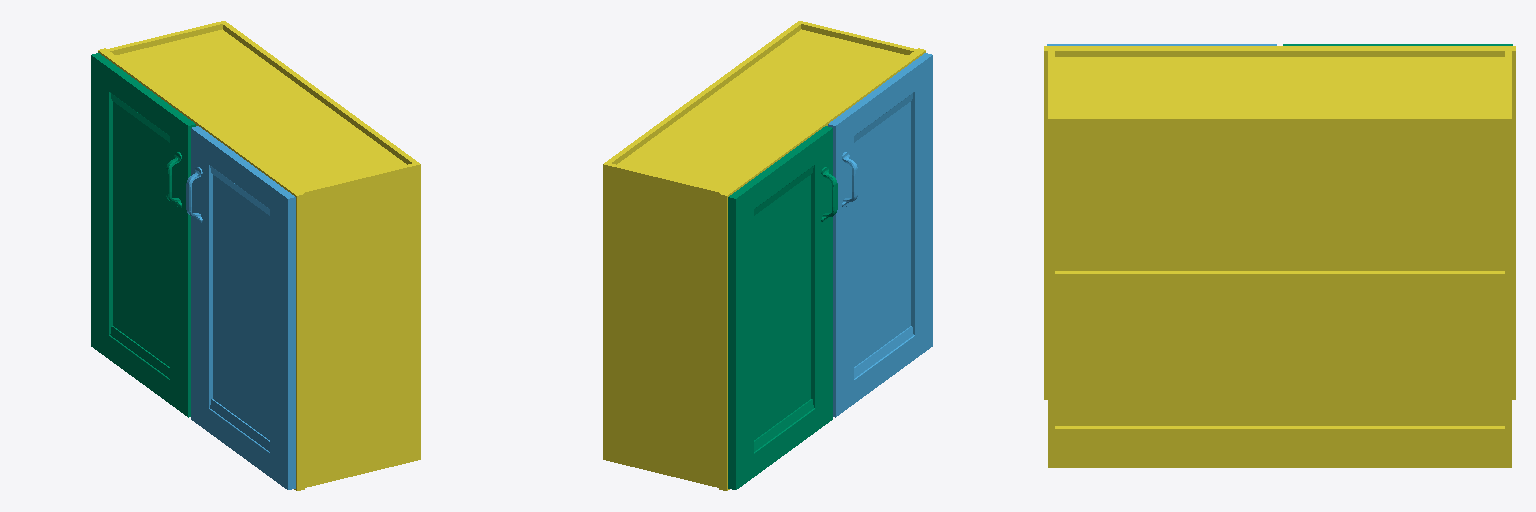
The robot description file, URDF, robot "partnet_e73d23dbd069877f4da5feafe6f1c8fc":
<?xml version="1.0" ?>
<robot name="partnet_e73d23dbd069877f4da5feafe6f1c8fc">
	<link name="base"/>
	    <contact>
      		<lateral_friction value="1.0"/>
      		<rolling_friction value="1"/>
      		<inertia_scaling value="3.0"/>
	    </contact>
	    <inertial>
	      <origin xyz="0. 0. 0." />
	      <mass value="1000000" />
	      <inertia ixx="0.001" ixy="0.0" ixz="0.0" iyy="0.001" iyz="0.0" izz="0.001" />
	    </inertial>
	<link name="link_0">
		<visual name="cabinet_door_surface-7">
			<origin xyz="-0.7838213456429965 -0.6148229837417603 -0.24762396097500847"/>
			<geometry>
				<mesh filename="textured_objs/original-28.obj"/>
			</geometry>
		</visual>
		<visual name="cabinet_door_surface-7">
			<origin xyz="-0.7838213456429965 -0.6148229837417603 -0.24762396097500847"/>
			<geometry>
				<mesh filename="textured_objs/original-24.obj"/>
			</geometry>
		</visual>
		<visual name="cabinet_door_surface-7">
			<origin xyz="-0.7838213456429965 -0.6148229837417603 -0.24762396097500847"/>
			<geometry>
				<mesh filename="textured_objs/original-23.obj"/>
			</geometry>
		</visual>
		<visual name="cabinet_door_surface-7">
			<origin xyz="-0.7838213456429965 -0.6148229837417603 -0.24762396097500847"/>
			<geometry>
				<mesh filename="textured_objs/original-22.obj"/>
			</geometry>
		</visual>
		<visual name="cabinet_door_surface-7">
			<origin xyz="-0.7838213456429965 -0.6148229837417603 -0.24762396097500847"/>
			<geometry>
				<mesh filename="textured_objs/original-25.obj"/>
			</geometry>
		</visual>
		<visual name="cabinet_door_surface-7">
			<origin xyz="-0.7838213456429965 -0.6148229837417603 -0.24762396097500847"/>
			<geometry>
				<mesh filename="textured_objs/original-27.obj"/>
			</geometry>
		</visual>
		<visual name="handle-8">
			<origin xyz="-0.7838213456429965 -0.6148229837417603 -0.24762396097500847"/>
			<geometry>
				<mesh filename="textured_objs/original-29.obj"/>
			</geometry>
		</visual>
		<collision>
			<origin xyz="-0.7838213456429965 -0.6148229837417603 -0.24762396097500847"/>
			<geometry>
				<mesh filename="textured_objs/original-28.obj"/>
			</geometry>
		</collision>
		<collision>
			<origin xyz="-0.7838213456429965 -0.6148229837417603 -0.24762396097500847"/>
			<geometry>
				<mesh filename="textured_objs/original-24.obj"/>
			</geometry>
		</collision>
		<collision>
			<origin xyz="-0.7838213456429965 -0.6148229837417603 -0.24762396097500847"/>
			<geometry>
				<mesh filename="textured_objs/original-23.obj"/>
			</geometry>
		</collision>
		<collision>
			<origin xyz="-0.7838213456429965 -0.6148229837417603 -0.24762396097500847"/>
			<geometry>
				<mesh filename="textured_objs/original-22.obj"/>
			</geometry>
		</collision>
		<collision>
			<origin xyz="-0.7838213456429965 -0.6148229837417603 -0.24762396097500847"/>
			<geometry>
				<mesh filename="textured_objs/original-25.obj"/>
			</geometry>
		</collision>
		<collision>
			<origin xyz="-0.7838213456429965 -0.6148229837417603 -0.24762396097500847"/>
			<geometry>
				<mesh filename="textured_objs/original-27.obj"/>
			</geometry>
		</collision>
		<collision>
			<origin xyz="-0.7838213456429965 -0.6148229837417603 -0.24762396097500847"/>
			<geometry>
				<mesh filename="textured_objs/original-29.obj"/>
			</geometry>
		</collision>
	</link>
	<joint name="joint_0" type="revolute">
		<origin xyz="0.7838213456429965 0.6148229837417603 0.24762396097500847"/>
		<axis xyz="0 1 0"/>
		<child link="link_0"/>
		<parent link="link_2"/>
		<limit lower="0.0" upper="3.141592653589793"/>
	</joint>
	<link name="link_1">
		<visual name="cabinet_door_surface-5">
			<origin xyz="0.741888548586882 -0.6148229837417603 -0.2513651717338325"/>
			<geometry>
				<mesh filename="textured_objs/original-36.obj"/>
			</geometry>
		</visual>
		<visual name="cabinet_door_surface-5">
			<origin xyz="0.741888548586882 -0.6148229837417603 -0.2513651717338325"/>
			<geometry>
				<mesh filename="textured_objs/original-34.obj"/>
			</geometry>
		</visual>
		<visual name="cabinet_door_surface-5">
			<origin xyz="0.741888548586882 -0.6148229837417603 -0.2513651717338325"/>
			<geometry>
				<mesh filename="textured_objs/original-32.obj"/>
			</geometry>
		</visual>
		<visual name="cabinet_door_surface-5">
			<origin xyz="0.741888548586882 -0.6148229837417603 -0.2513651717338325"/>
			<geometry>
				<mesh filename="textured_objs/original-31.obj"/>
			</geometry>
		</visual>
		<visual name="cabinet_door_surface-5">
			<origin xyz="0.741888548586882 -0.6148229837417603 -0.2513651717338325"/>
			<geometry>
				<mesh filename="textured_objs/original-33.obj"/>
			</geometry>
		</visual>
		<visual name="cabinet_door_surface-5">
			<origin xyz="0.741888548586882 -0.6148229837417603 -0.2513651717338325"/>
			<geometry>
				<mesh filename="textured_objs/original-37.obj"/>
			</geometry>
		</visual>
		<visual name="handle-6">
			<origin xyz="0.741888548586882 -0.6148229837417603 -0.2513651717338325"/>
			<geometry>
				<mesh filename="textured_objs/original-38.obj"/>
			</geometry>
		</visual>
		<collision>
			<origin xyz="0.741888548586882 -0.6148229837417603 -0.2513651717338325"/>
			<geometry>
				<mesh filename="textured_objs/original-36.obj"/>
			</geometry>
		</collision>
		<collision>
			<origin xyz="0.741888548586882 -0.6148229837417603 -0.2513651717338325"/>
			<geometry>
				<mesh filename="textured_objs/original-34.obj"/>
			</geometry>
		</collision>
		<collision>
			<origin xyz="0.741888548586882 -0.6148229837417603 -0.2513651717338325"/>
			<geometry>
				<mesh filename="textured_objs/original-32.obj"/>
			</geometry>
		</collision>
		<collision>
			<origin xyz="0.741888548586882 -0.6148229837417603 -0.2513651717338325"/>
			<geometry>
				<mesh filename="textured_objs/original-31.obj"/>
			</geometry>
		</collision>
		<collision>
			<origin xyz="0.741888548586882 -0.6148229837417603 -0.2513651717338325"/>
			<geometry>
				<mesh filename="textured_objs/original-33.obj"/>
			</geometry>
		</collision>
		<collision>
			<origin xyz="0.741888548586882 -0.6148229837417603 -0.2513651717338325"/>
			<geometry>
				<mesh filename="textured_objs/original-37.obj"/>
			</geometry>
		</collision>
		<collision>
			<origin xyz="0.741888548586882 -0.6148229837417603 -0.2513651717338325"/>
			<geometry>
				<mesh filename="textured_objs/original-38.obj"/>
			</geometry>
		</collision>
	</link>
	<joint name="joint_1" type="revolute">
		<origin xyz="-0.741888548586882 0.6148229837417603 0.2513651717338325"/>
		<axis xyz="0 -1 0"/>
		<child link="link_1"/>
		<parent link="link_2"/>
		<limit lower="-0.0" upper="3.141592653589793"/>
	</joint>
	<link name="link_2">
		<visual name="shelf-10">
			<origin xyz="0 0 0"/>
			<geometry>
				<mesh filename="textured_objs/original-19.obj"/>
			</geometry>
		</visual>
		<visual name="back_panel-13">
			<origin xyz="0 0 0"/>
			<geometry>
				<mesh filename="textured_objs/original-7.obj"/>
			</geometry>
		</visual>
		<visual name="back_panel-13">
			<origin xyz="0 0 0"/>
			<geometry>
				<mesh filename="textured_objs/original-8.obj"/>
			</geometry>
		</visual>
		<visual name="bottom_panel-14">
			<origin xyz="0 0 0"/>
			<geometry>
				<mesh filename="textured_objs/original-14.obj"/>
			</geometry>
		</visual>
		<visual name="bottom_panel-14">
			<origin xyz="0 0 0"/>
			<geometry>
				<mesh filename="textured_objs/original-15.obj"/>
			</geometry>
		</visual>
		<visual name="top_panel-15">
			<origin xyz="0 0 0"/>
			<geometry>
				<mesh filename="textured_objs/original-2.obj"/>
			</geometry>
		</visual>
		<visual name="top_panel-15">
			<origin xyz="0 0 0"/>
			<geometry>
				<mesh filename="textured_objs/original-3.obj"/>
			</geometry>
		</visual>
		<visual name="frame_vertical_bar-16">
			<origin xyz="0 0 0"/>
			<geometry>
				<mesh filename="textured_objs/original-12.obj"/>
			</geometry>
		</visual>
		<visual name="frame_vertical_bar-17">
			<origin xyz="0 0 0"/>
			<geometry>
				<mesh filename="textured_objs/original-18.obj"/>
			</geometry>
		</visual>
		<visual name="frame_vertical_bar-18">
			<origin xyz="0 0 0"/>
			<geometry>
				<mesh filename="textured_objs/original-11.obj"/>
			</geometry>
		</visual>
		<visual name="frame_horizontal_bar-19">
			<origin xyz="0 0 0"/>
			<geometry>
				<mesh filename="textured_objs/original-20.obj"/>
			</geometry>
		</visual>
		<visual name="frame_horizontal_bar-20">
			<origin xyz="0 0 0"/>
			<geometry>
				<mesh filename="textured_objs/original-4.obj"/>
			</geometry>
		</visual>
		<visual name="frame_horizontal_bar-21">
			<origin xyz="0 0 0"/>
			<geometry>
				<mesh filename="textured_objs/original-17.obj"/>
			</geometry>
		</visual>
		<visual name="frame_horizontal_bar-22">
			<origin xyz="0 0 0"/>
			<geometry>
				<mesh filename="textured_objs/original-16.obj"/>
			</geometry>
		</visual>
		<visual name="frame_horizontal_bar-23">
			<origin xyz="0 0 0"/>
			<geometry>
				<mesh filename="textured_objs/original-5.obj"/>
			</geometry>
		</visual>
		<visual name="vertical_side_panel-24">
			<origin xyz="0 0 0"/>
			<geometry>
				<mesh filename="textured_objs/original-9.obj"/>
			</geometry>
		</visual>
		<visual name="vertical_side_panel-25">
			<origin xyz="0 0 0"/>
			<geometry>
				<mesh filename="textured_objs/original-10.obj"/>
			</geometry>
		</visual>
		<visual name="other_leaf-27">
			<origin xyz="0 0 0"/>
			<geometry>
				<mesh filename="textured_objs/original-39.obj"/>
			</geometry>
		</visual>
		<collision>
			<origin xyz="0 0 0"/>
			<geometry>
				<mesh filename="textured_objs/original-19.obj"/>
			</geometry>
		</collision>
		<collision>
			<origin xyz="0 0 0"/>
			<geometry>
				<mesh filename="textured_objs/original-7.obj"/>
			</geometry>
		</collision>
		<collision>
			<origin xyz="0 0 0"/>
			<geometry>
				<mesh filename="textured_objs/original-8.obj"/>
			</geometry>
		</collision>
		<collision>
			<origin xyz="0 0 0"/>
			<geometry>
				<mesh filename="textured_objs/original-14.obj"/>
			</geometry>
		</collision>
		<collision>
			<origin xyz="0 0 0"/>
			<geometry>
				<mesh filename="textured_objs/original-15.obj"/>
			</geometry>
		</collision>
		<collision>
			<origin xyz="0 0 0"/>
			<geometry>
				<mesh filename="textured_objs/original-2.obj"/>
			</geometry>
		</collision>
		<collision>
			<origin xyz="0 0 0"/>
			<geometry>
				<mesh filename="textured_objs/original-3.obj"/>
			</geometry>
		</collision>
		<collision>
			<origin xyz="0 0 0"/>
			<geometry>
				<mesh filename="textured_objs/original-12.obj"/>
			</geometry>
		</collision>
		<collision>
			<origin xyz="0 0 0"/>
			<geometry>
				<mesh filename="textured_objs/original-18.obj"/>
			</geometry>
		</collision>
		<collision>
			<origin xyz="0 0 0"/>
			<geometry>
				<mesh filename="textured_objs/original-11.obj"/>
			</geometry>
		</collision>
		<collision>
			<origin xyz="0 0 0"/>
			<geometry>
				<mesh filename="textured_objs/original-20.obj"/>
			</geometry>
		</collision>
		<collision>
			<origin xyz="0 0 0"/>
			<geometry>
				<mesh filename="textured_objs/original-4.obj"/>
			</geometry>
		</collision>
		<collision>
			<origin xyz="0 0 0"/>
			<geometry>
				<mesh filename="textured_objs/original-17.obj"/>
			</geometry>
		</collision>
		<collision>
			<origin xyz="0 0 0"/>
			<geometry>
				<mesh filename="textured_objs/original-16.obj"/>
			</geometry>
		</collision>
		<collision>
			<origin xyz="0 0 0"/>
			<geometry>
				<mesh filename="textured_objs/original-5.obj"/>
			</geometry>
		</collision>
		<collision>
			<origin xyz="0 0 0"/>
			<geometry>
				<mesh filename="textured_objs/original-9.obj"/>
			</geometry>
		</collision>
		<collision>
			<origin xyz="0 0 0"/>
			<geometry>
				<mesh filename="textured_objs/original-10.obj"/>
			</geometry>
		</collision>
		<collision>
			<origin xyz="0 0 0"/>
			<geometry>
				<mesh filename="textured_objs/original-39.obj"/>
			</geometry>
		</collision>
	</link>
	<joint name="joint_2" type="fixed">
		<origin rpy="1.570796326794897 0 -1.570796326794897" xyz="0 0 0"/>
		<child link="link_2"/>
		<parent link="base"/>
	</joint>
</robot>

--- Render facts (derived) ---
The picture shows the robot from 3 angles, left to right: view 1: azimuth 30°, elevation 25°; view 2: azimuth 150°, elevation 25°; view 3: azimuth 270°, elevation 25°; orthographic projection.
Model partnet_e73d23dbd069877f4da5feafe6f1c8fc with 4 links and 3 joints (2 revolute, 1 fixed), rooted at base, posed all joints at 0.
Links seen in each view (by area): view 1: link_2, link_0, link_1; view 2: link_2, link_1, link_0; view 3: link_2.
Link boxes in pixels (box(x1,y1,x2,y2)): link_2: box(98, 21, 420, 490); link_0: box(186, 126, 295, 489); link_1: box(91, 53, 195, 417); link_2: box(603, 21, 925, 490); link_1: box(728, 126, 837, 489); link_0: box(828, 53, 932, 417); link_2: box(1044, 46, 1515, 467).
Size in the robot's own frame: 0.6509 by 1.54 by 1.26 metres.
Meshes: 32 distinct files referenced, 32 mesh visuals loaded (32 OBJ).